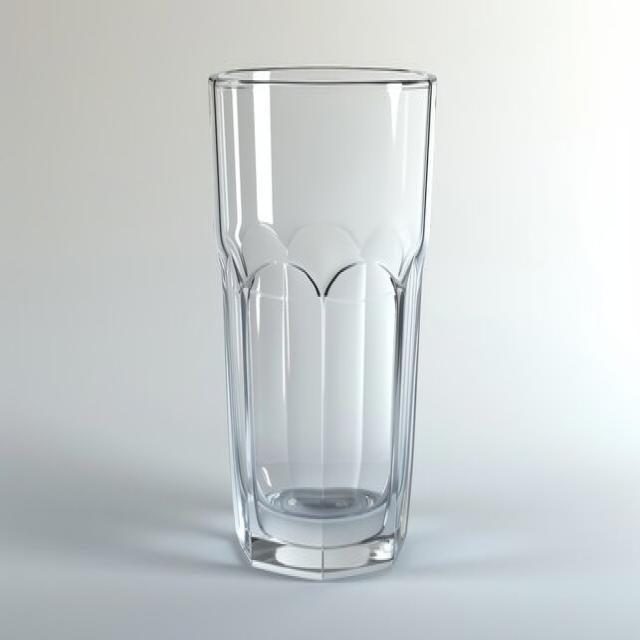Cup: (207, 67, 438, 583)
